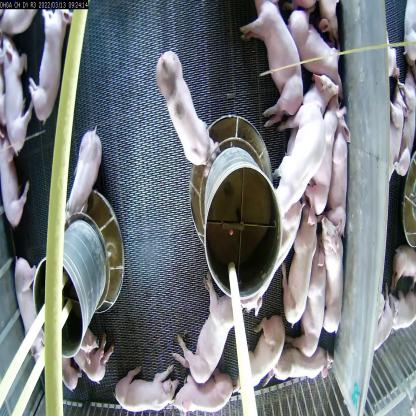Pig: (179, 266, 251, 388), (153, 38, 218, 168), (242, 4, 301, 132), (289, 0, 348, 90), (279, 65, 342, 148), (30, 2, 72, 126), (314, 198, 347, 348), (66, 304, 116, 394), (62, 120, 104, 224), (282, 189, 314, 324), (276, 102, 317, 207), (0, 122, 37, 238), (310, 80, 336, 234), (117, 362, 190, 415), (3, 40, 36, 148), (18, 255, 48, 363), (270, 350, 342, 394), (170, 373, 244, 415), (232, 313, 285, 371), (325, 111, 348, 222), (300, 249, 322, 357), (46, 339, 79, 403)
